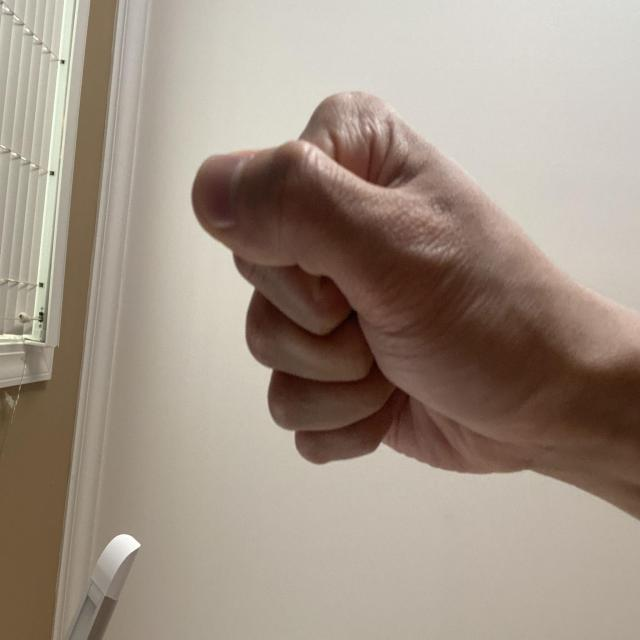A: (112, 245, 420, 640)
